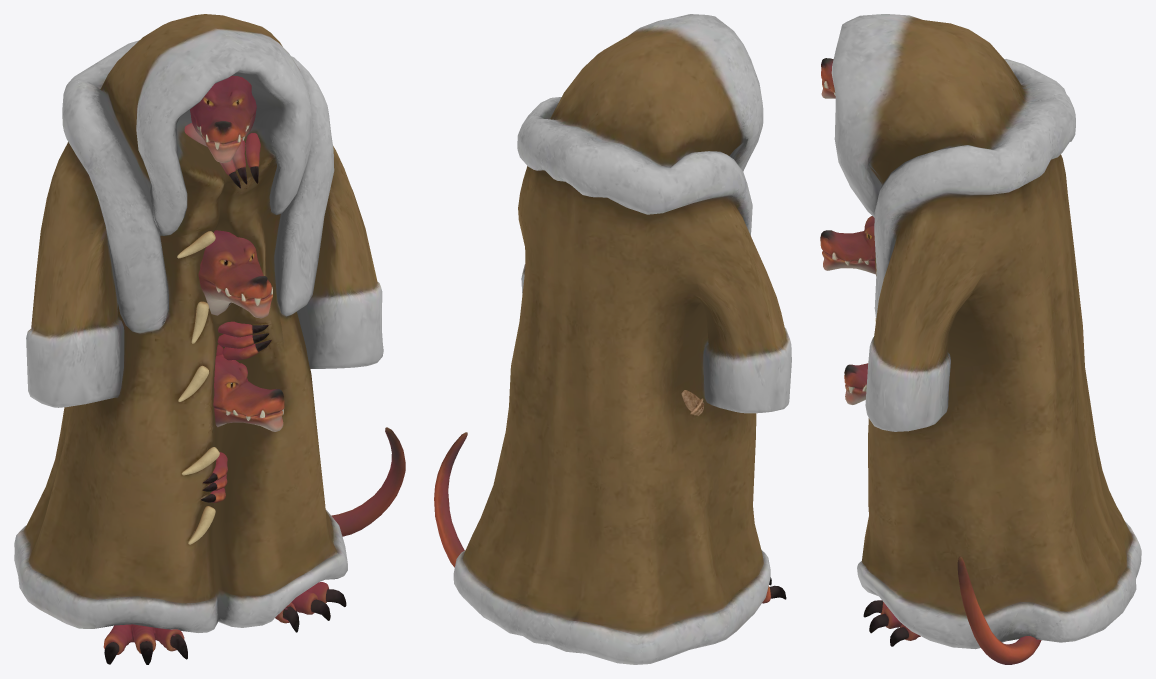
The model's file is MZ4250 - Three Kobolds in a Winter Coat.glb.
3 views of the same model, side by side, from view 1: azimuth 30°, elevation 25°; view 2: azimuth 150°, elevation 25°; view 3: azimuth 270°, elevation 25° (orthographic). The views are drawn at different scales.
Visible parts, largest first — view 1: Body.001; view 2: Body.001; view 3: Body.001.
Boxes of the visible parts, x1,y1,x2,y2 form: Body.001: (14,14,405,664); Body.001: (434,14,791,664); Body.001: (820,14,1141,664).
Size of the model in its own units: 1.34 by 2.04 by 1.05.
3 materials, 3 textured.
